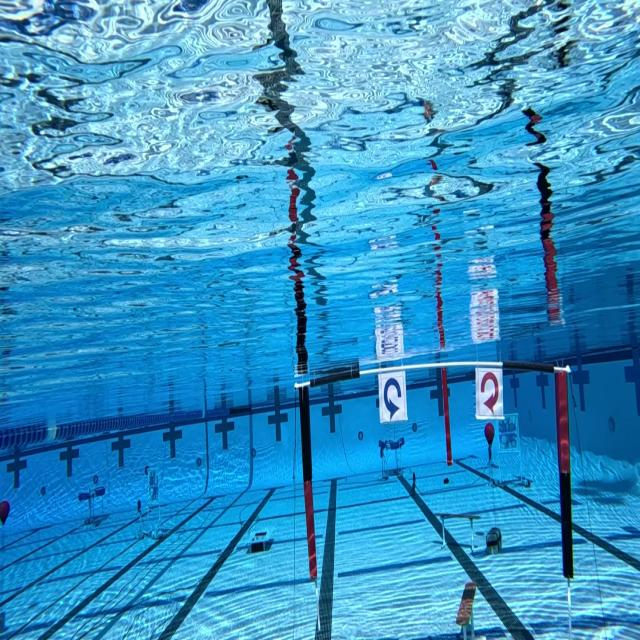blue_side: (378, 368, 408, 421)
red_side: (476, 362, 504, 420)
